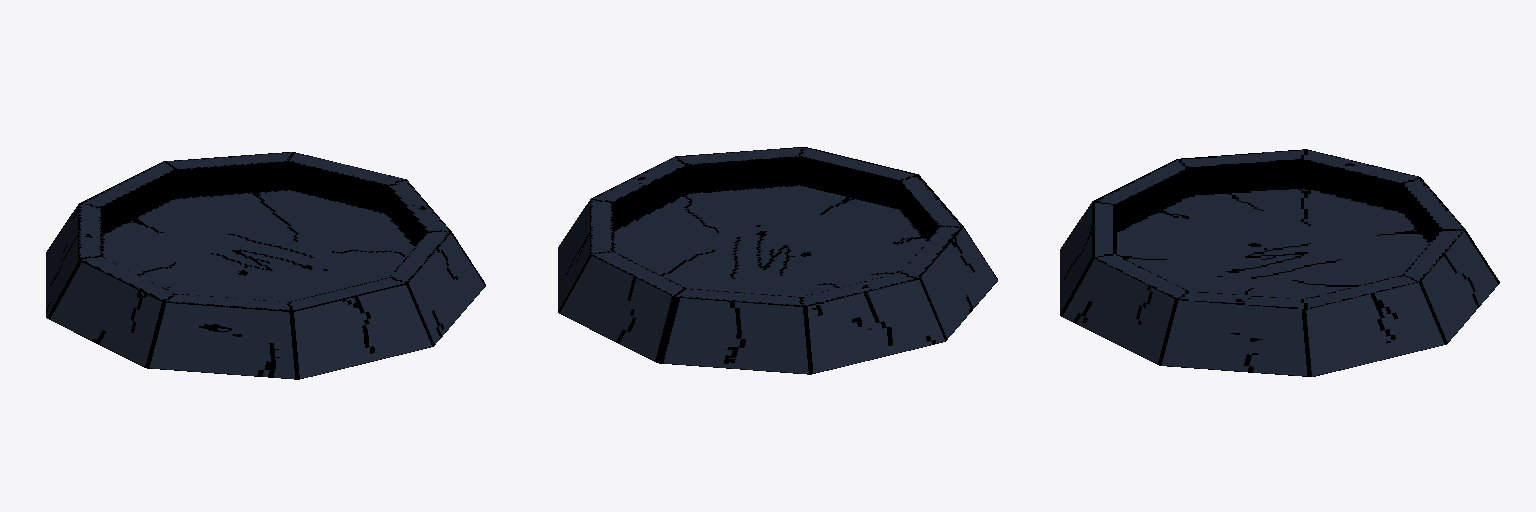
3 renders of one model, left to right at view 1: azimuth 30°, elevation 25°; view 2: azimuth 150°, elevation 25°; view 3: azimuth 270°, elevation 25°, orthographic.
Visible parts, largest first — view 1: platformslot; view 2: platformslot; view 3: platformslot.
Boxes of the visible parts, x1,y1,x2,y2 form: platformslot: [46, 152, 485, 379]; platformslot: [558, 147, 997, 374]; platformslot: [1060, 149, 1499, 376].
Size of the model in its own units: 1.97 by 0.2599 by 1.94.
Materials: 1 (1 with a texture image).